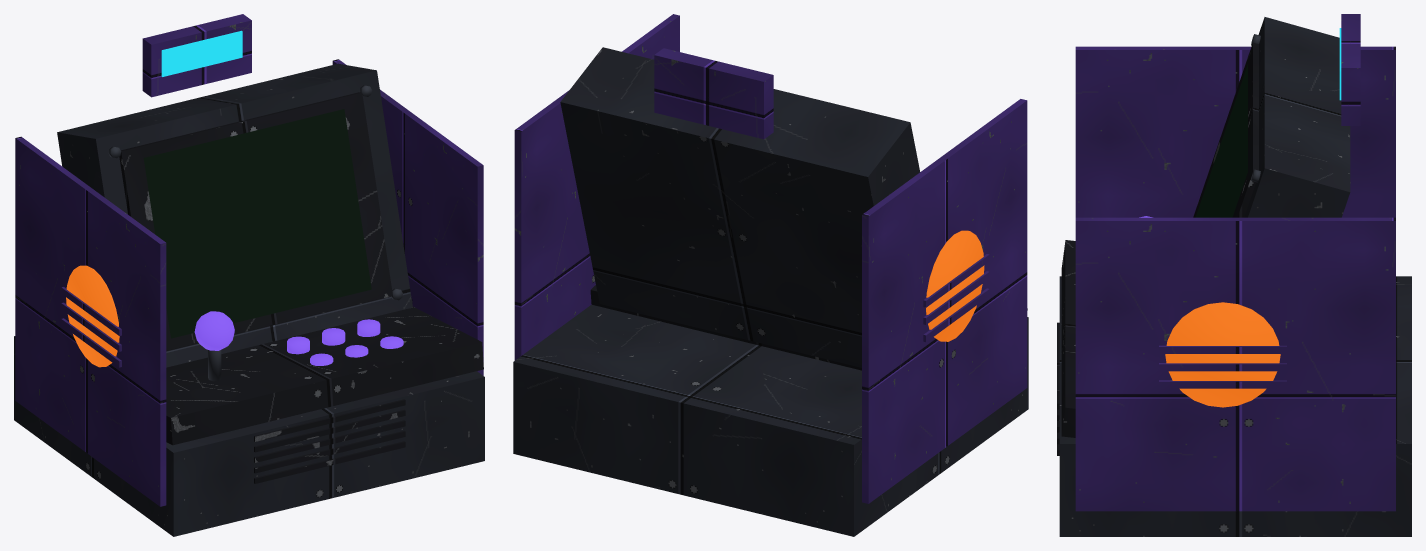
Rendered from Tech_Arcade_Bartop.gltf.
The picture shows the model from 3 angles, left to right: view 1: azimuth 30°, elevation 25°; view 2: azimuth 150°, elevation 25°; view 3: azimuth 270°, elevation 25°; orthographic projection. The views are drawn at different scales.
Parts seen in each view (by area): view 1: Tech_Arcade_Bartop; view 2: Tech_Arcade_Bartop; view 3: Tech_Arcade_Bartop.
Part boxes in pixels (x1,y1,x2,y2): Tech_Arcade_Bartop: (14, 14, 484, 536); Tech_Arcade_Bartop: (513, 14, 1028, 536); Tech_Arcade_Bartop: (1057, 14, 1411, 536).
Bounding box in the file's own units: 0.657 × 0.71 × 0.554.
8 materials, 3 textured.
